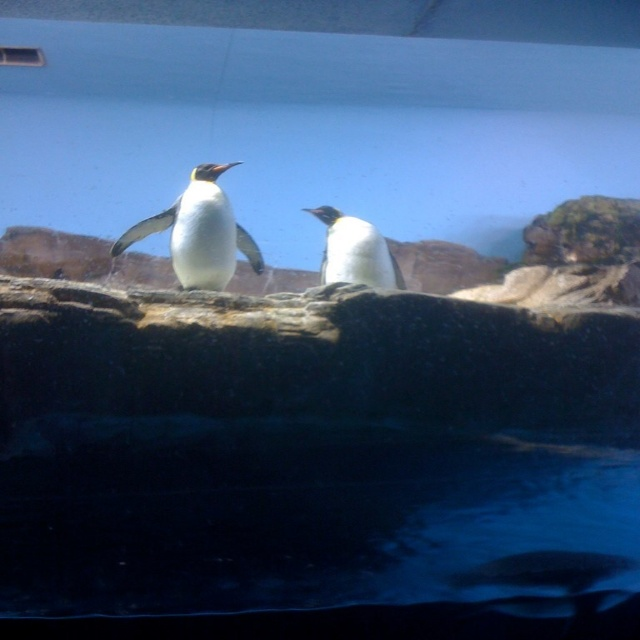Penguin: (112, 150, 271, 291), (303, 204, 404, 293)
